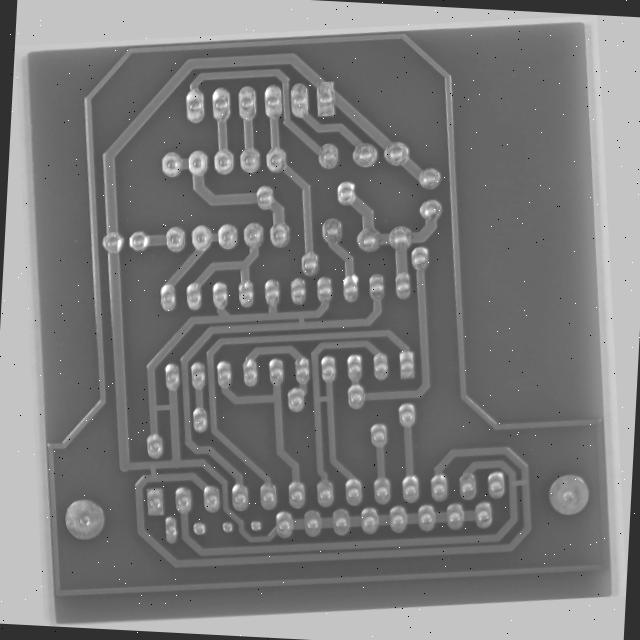short: (115, 387, 158, 406), (287, 301, 311, 330), (109, 449, 129, 481), (295, 398, 332, 414), (502, 510, 533, 529)
